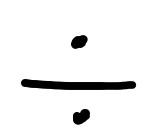div: (20, 31, 138, 125)
